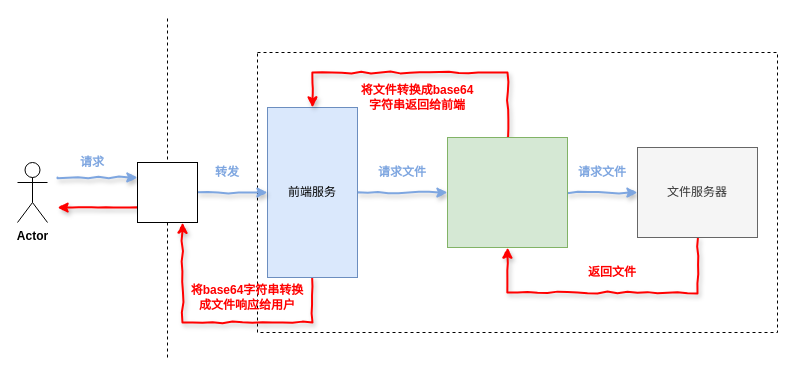
Some shapes in this 795 by 376 pixel diagram are drawn without their labels. The centre of each missing label's shape, as x and y in pixels:
"nginx" goes at point (167, 192).
"后端服务" goes at point (507, 192).
